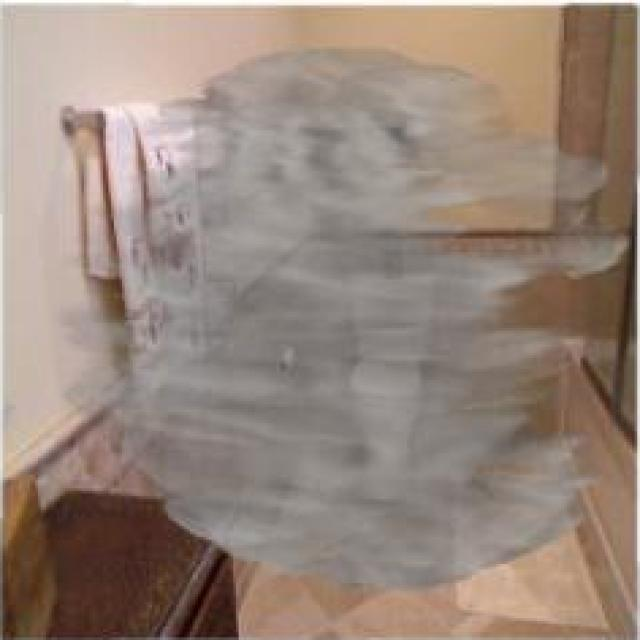fire: (59, 46, 630, 591)
